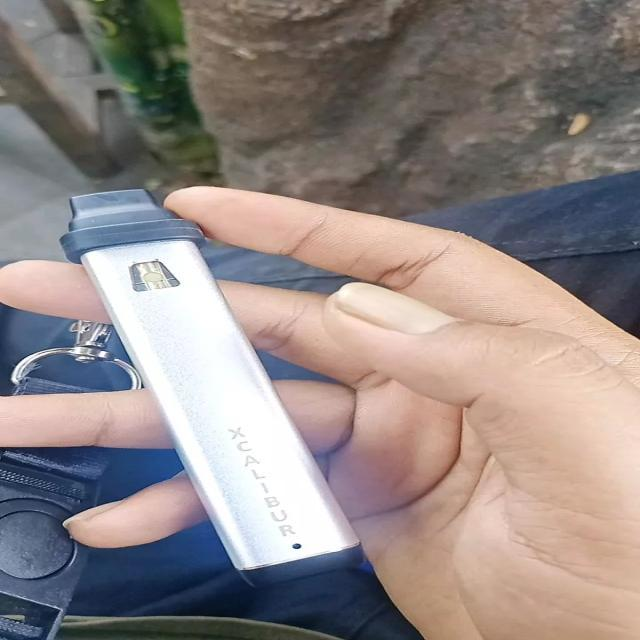Hazard: (60, 188, 362, 587)
